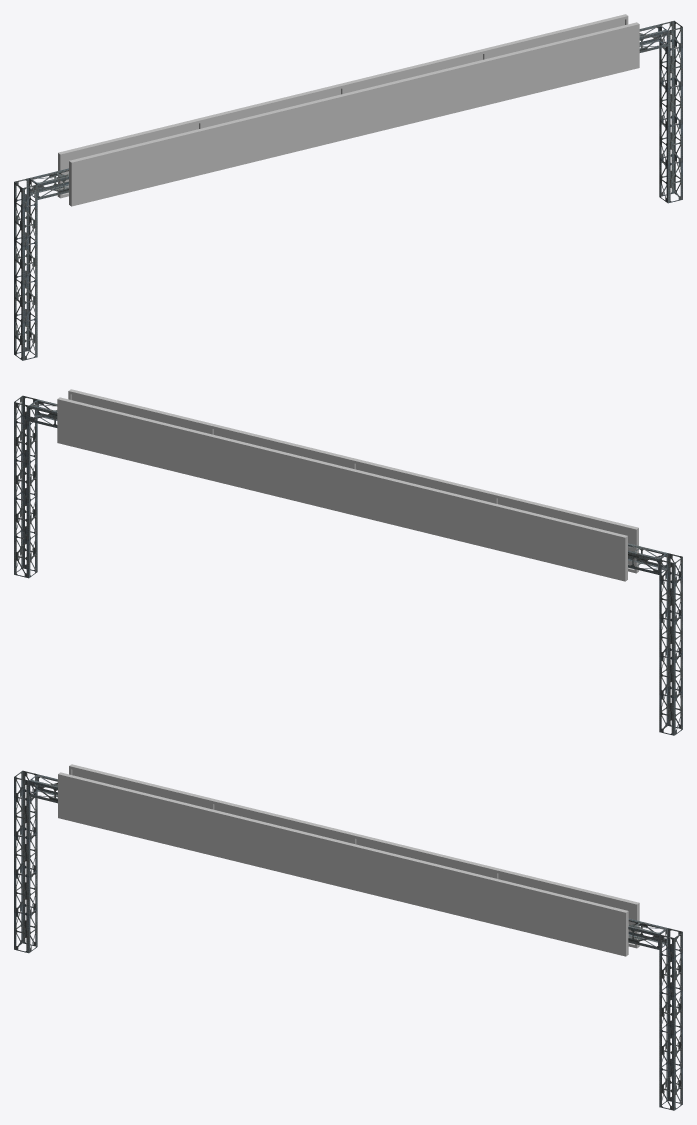
The model's file is OutDoor-E-2.fbx.
The picture shows the model from 3 angles, top to bottom: view 1: azimuth 30°, elevation 25°; view 2: azimuth 150°, elevation 25°; view 3: azimuth 330°, elevation 25°; orthographic projection.
Visible parts, largest first — view 1: OutDoor-E; view 2: OutDoor-E; view 3: OutDoor-E.
Part boxes in pixels (box(x1,y1,x2,y2)): OutDoor-E: box(14, 14, 682, 360); OutDoor-E: box(14, 389, 682, 735); OutDoor-E: box(14, 764, 682, 1110).
Bounding box in the file's own units: 4400 × 1201 × 158.
